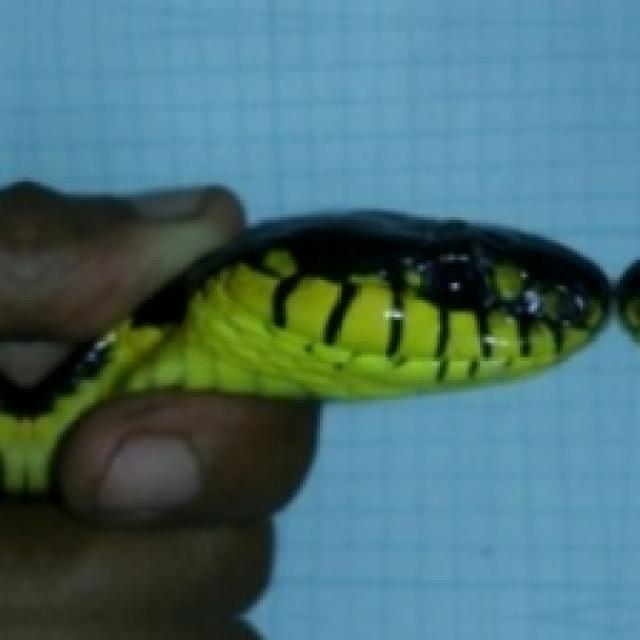mangrove cat snake: (0, 212, 609, 493)
